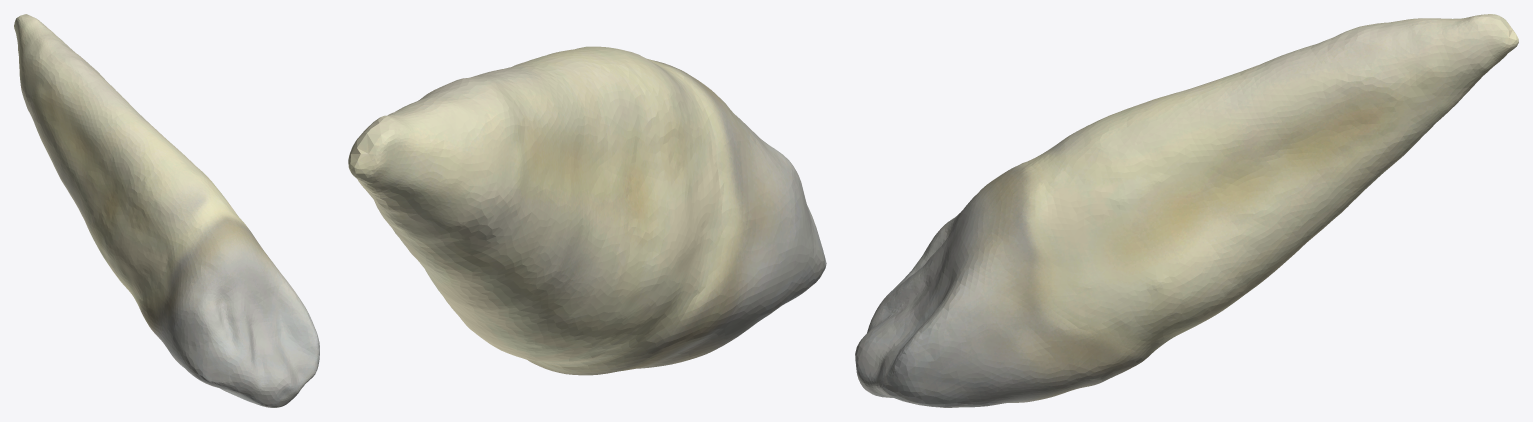
The model's file is 43 - canino inferior direito.glb.
3 views of the same model, side by side, from view 1: azimuth 30°, elevation 25°; view 2: azimuth 150°, elevation 25°; view 3: azimuth 270°, elevation 25° (orthographic). The views are drawn at different scales.
Visible parts, largest first — view 1: 3MFMeshParent_0; view 2: 3MFMeshParent_0; view 3: 3MFMeshParent_0.
Boxes of the visible parts, x1=… form: 3MFMeshParent_0: x1=14, y1=14, x2=319, y2=407; 3MFMeshParent_0: x1=348, y1=46, x2=826, y2=375; 3MFMeshParent_0: x1=855, y1=14, x2=1518, y2=407.
Bounding box in the file's own units: 0.161 × 0.2997 × 0.512.
Materials: 1 (1 with a texture image).
